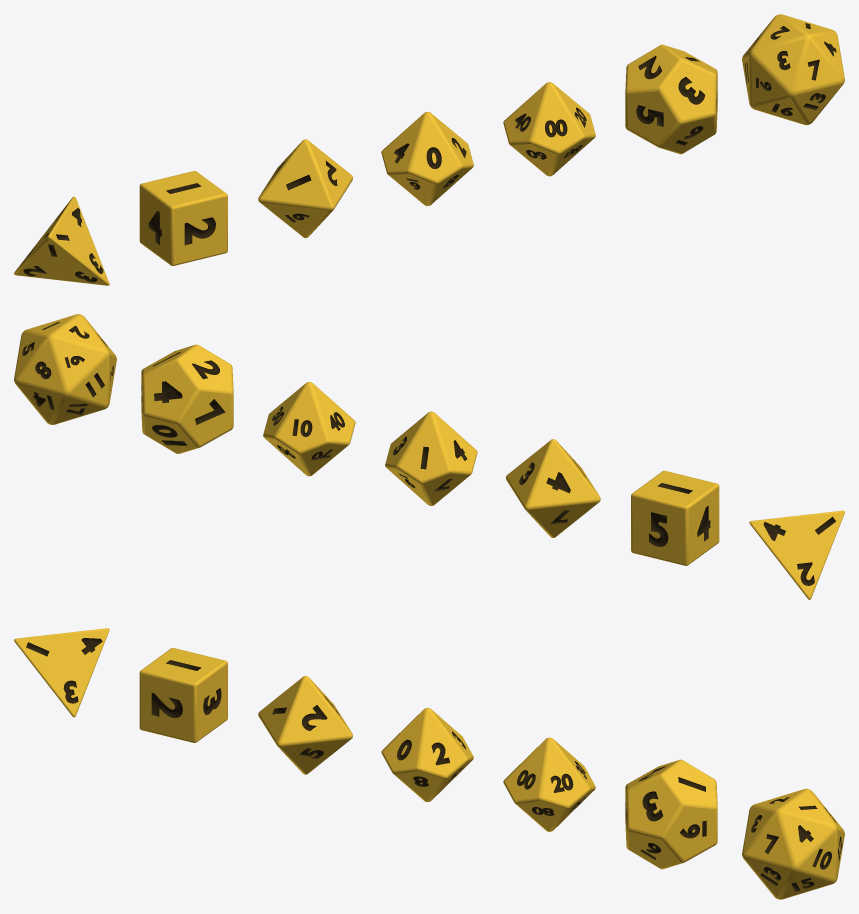
Rendered from sunflower.glb.
3 renders of one model, top to bottom at view 1: azimuth 30°, elevation 25°; view 2: azimuth 150°, elevation 25°; view 3: azimuth 330°, elevation 25°, orthographic.
Visible parts, largest first — view 1: d20, d12, d6, d100, d10, d8, d4; view 2: d20, d12, d6, d100, d10, d8, d4; view 3: d20, d12, d6, d8, d10, d100, d4.
Boxes of the visible parts, <box> form: d20: <box>742,14,844,125</box>; d12: <box>625,44,717,154</box>; d6: <box>139,171,227,265</box>; d100: <box>503,82,595,176</box>; d10: <box>381,111,473,205</box>; d8: <box>258,139,352,238</box>; d4: <box>14,196,109,285</box>; d20: <box>14,314,116,424</box>; d12: <box>141,344,233,453</box>; d6: <box>631,470,719,565</box>; d100: <box>263,382,355,476</box>; d10: <box>385,411,477,505</box>; d8: <box>506,439,600,537</box>; d4: <box>749,510,844,599</box>; d20: <box>742,788,844,899</box>; d12: <box>625,759,717,869</box>; d6: <box>139,648,227,742</box>; d8: <box>258,675,352,774</box>; d10: <box>381,708,473,802</box>; d100: <box>503,737,595,831</box>; d4: <box>14,628,109,717</box>.
Size of the model in its own units: 21.14 by 2.46 by 2.46.
